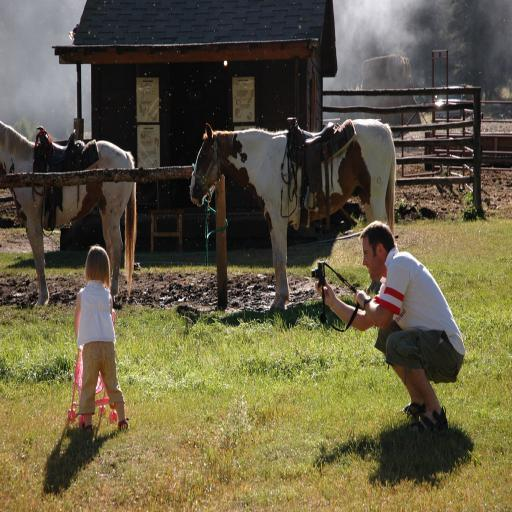horse: (190, 118, 396, 316), (0, 120, 136, 296)
